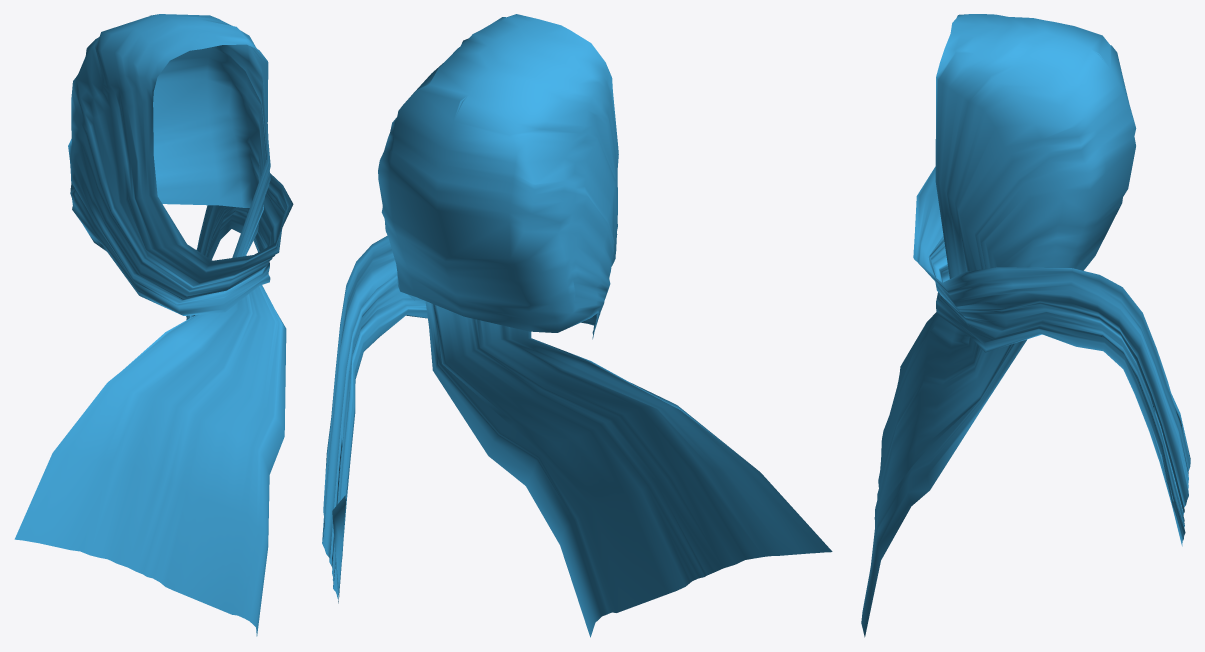
The model's file is shawl3.glb.
The picture shows the model from 3 angles, left to right: view 1: azimuth 30°, elevation 25°; view 2: azimuth 150°, elevation 25°; view 3: azimuth 270°, elevation 25°; orthographic projection. The views are drawn at different scales.
Parts seen in each view (by area): view 1: Plane; view 2: Plane; view 3: Plane.
Part boxes in pixels (bbox=[...]): Plane: bbox=[14, 14, 293, 636]; Plane: bbox=[322, 14, 832, 637]; Plane: bbox=[861, 14, 1190, 637].
Size of the model in its own units: 0.2991 by 0.5018 by 0.2465.
